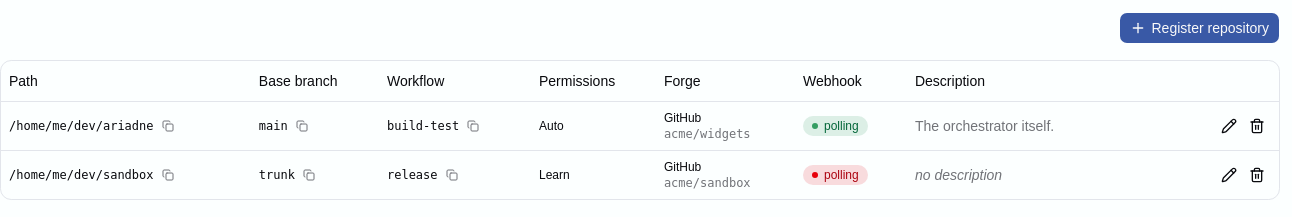
Test: RepositoriesPage › shows polling with the tunnel off: green with how to turn it on, red with the fetch error
Expected: the picture named "polling: working" reads "polling", [824,118,859,132]
Hover over the picture named "polling: working" at (835, 126), box [803,116,868,136]
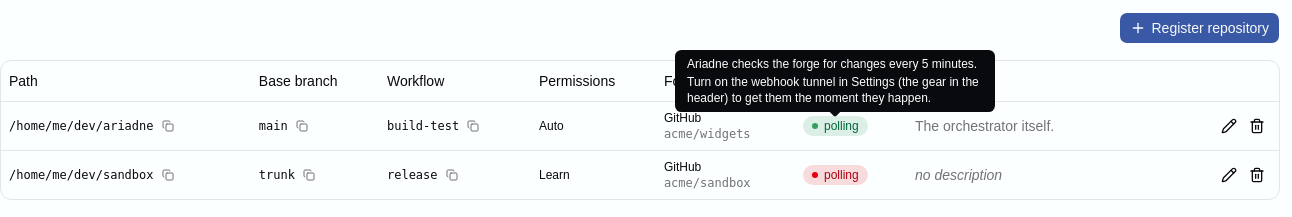
Now the text "Turn on the webhook tunnel in Settings" is shown, box [687,75,979,105]
Hover over the picture named "polling: not working" at (835, 174), box [803,164,868,184]
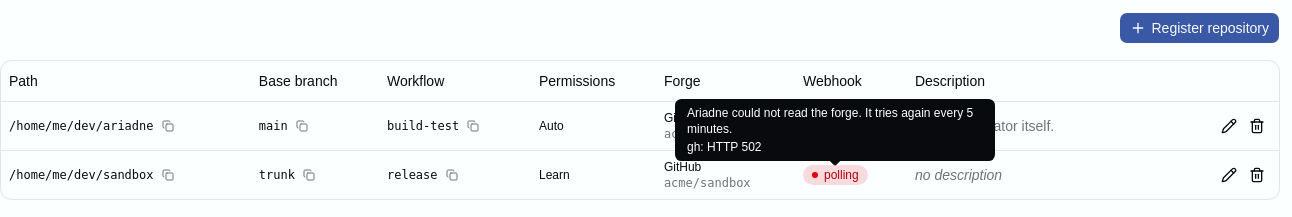
Now the text "gh: HTTP 502" is shown, box [687,140,762,154]
